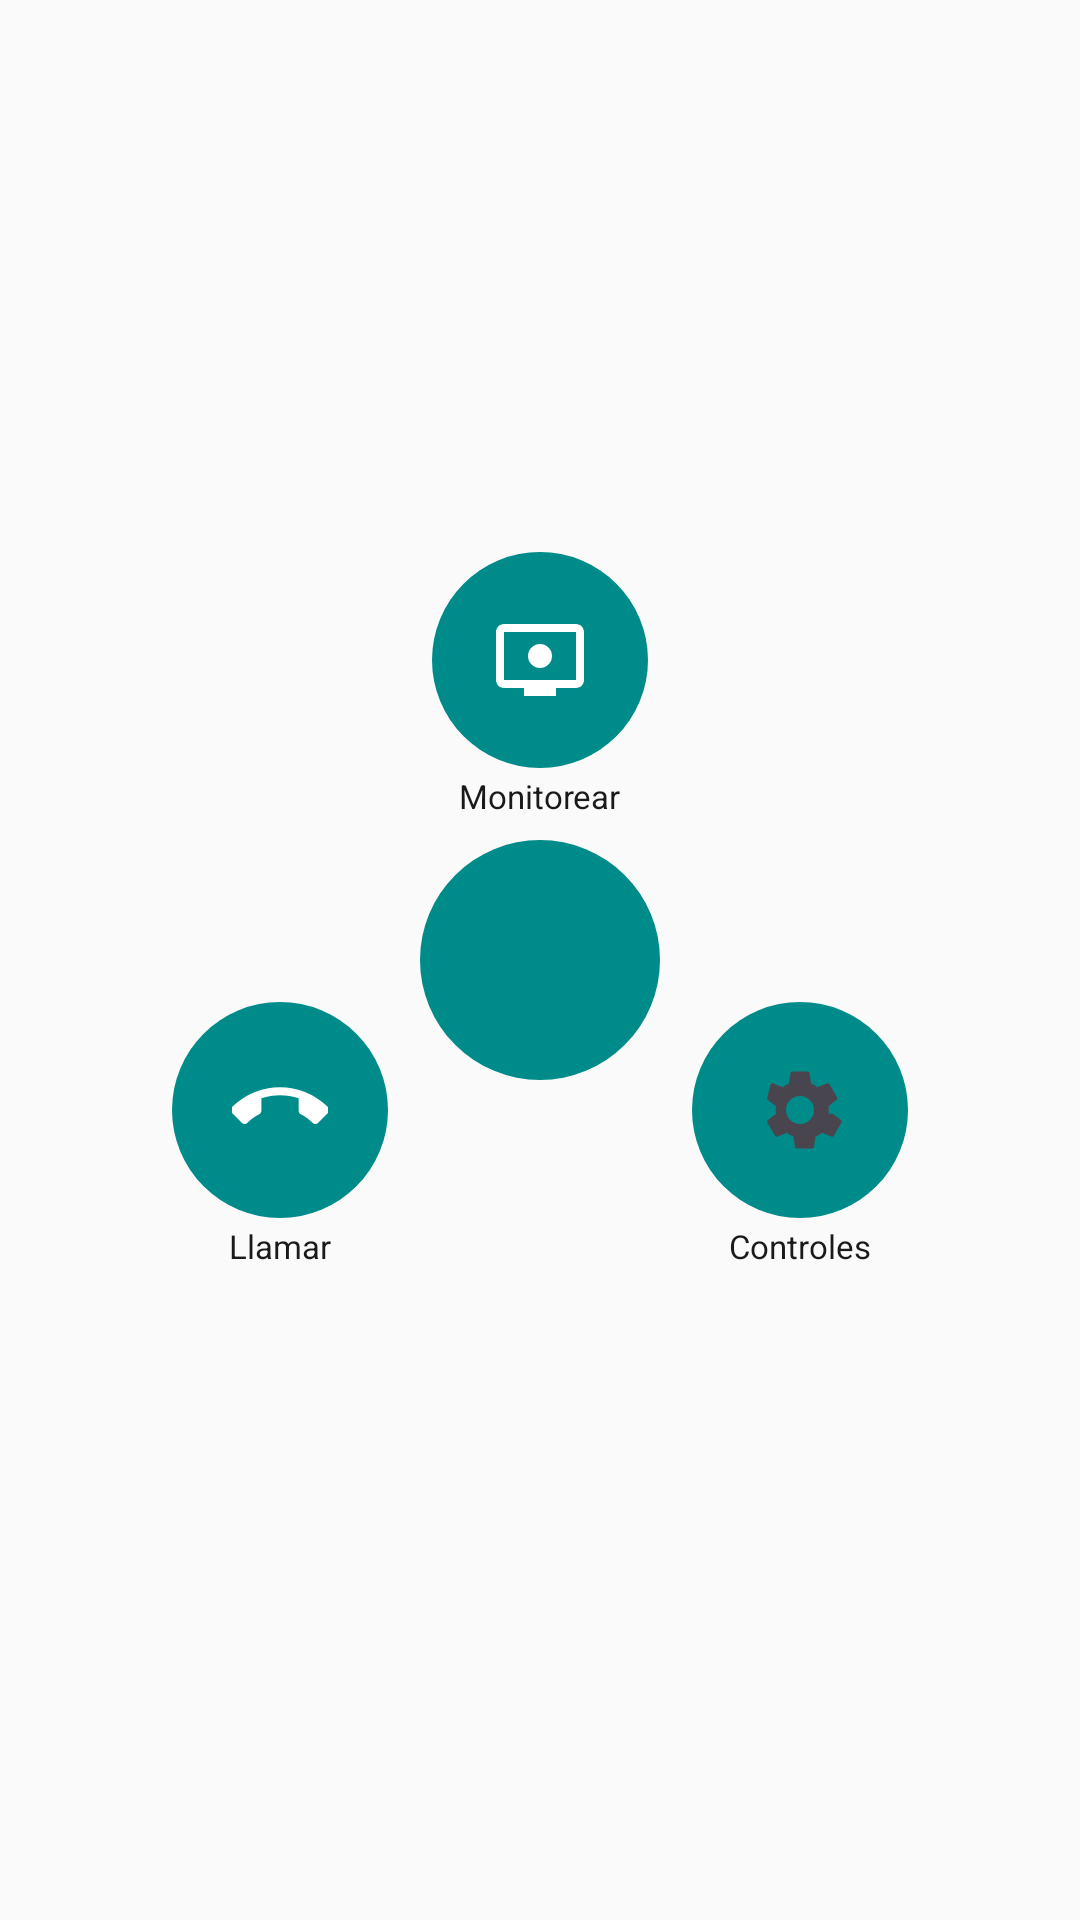

Icons on this 1080 x 1920 Android screen, each with the point to tap as (x=x, y=y):
monitor video: (x=540, y=660)
settings: (x=804, y=1110)
